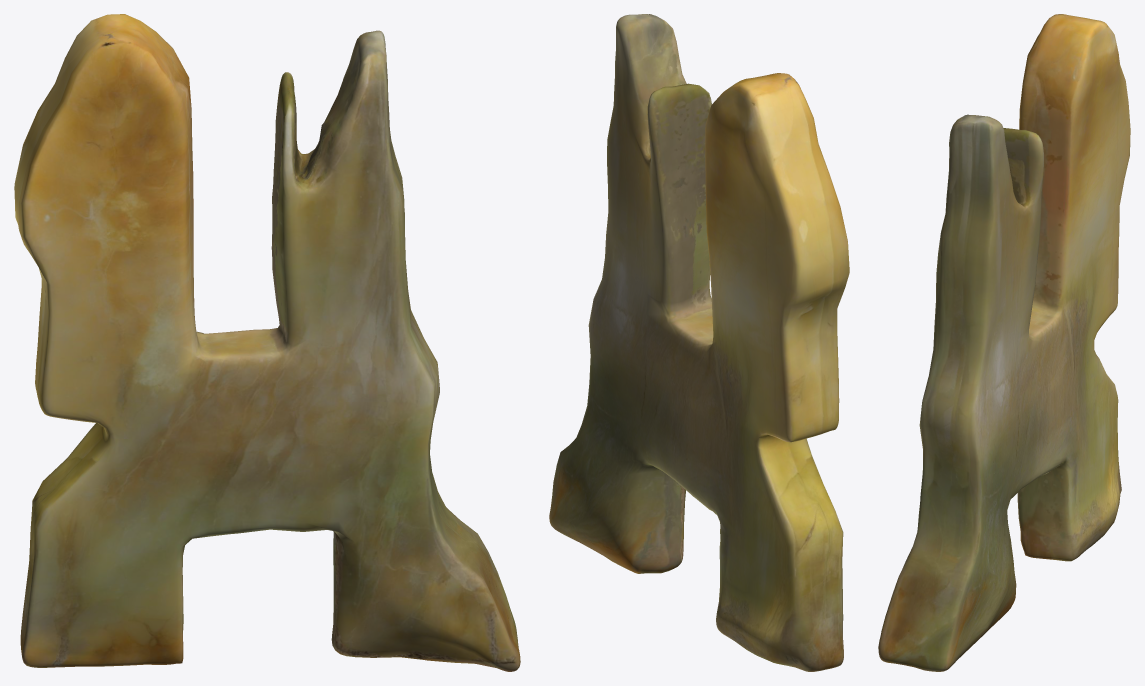
Rendered from lee_hwi_chan.glb.
3 renders of one model, left to right at view 1: azimuth 30°, elevation 25°; view 2: azimuth 150°, elevation 25°; view 3: azimuth 270°, elevation 25°, orthographic. The views are drawn at different scales.
Visible parts, largest first — view 1: Mesh0.001; view 2: Mesh0.001; view 3: Mesh0.001.
Part boxes in pixels (left/top/right/bottom): Mesh0.001: left=14, top=14, right=520, bottom=671; Mesh0.001: left=549, top=14, right=849, bottom=671; Mesh0.001: left=878, top=14, right=1130, bottom=671.
Bounding box in the file's own units: 0.7378 × 1.09 × 0.4711.
Materials: 1 (1 with a texture image).
